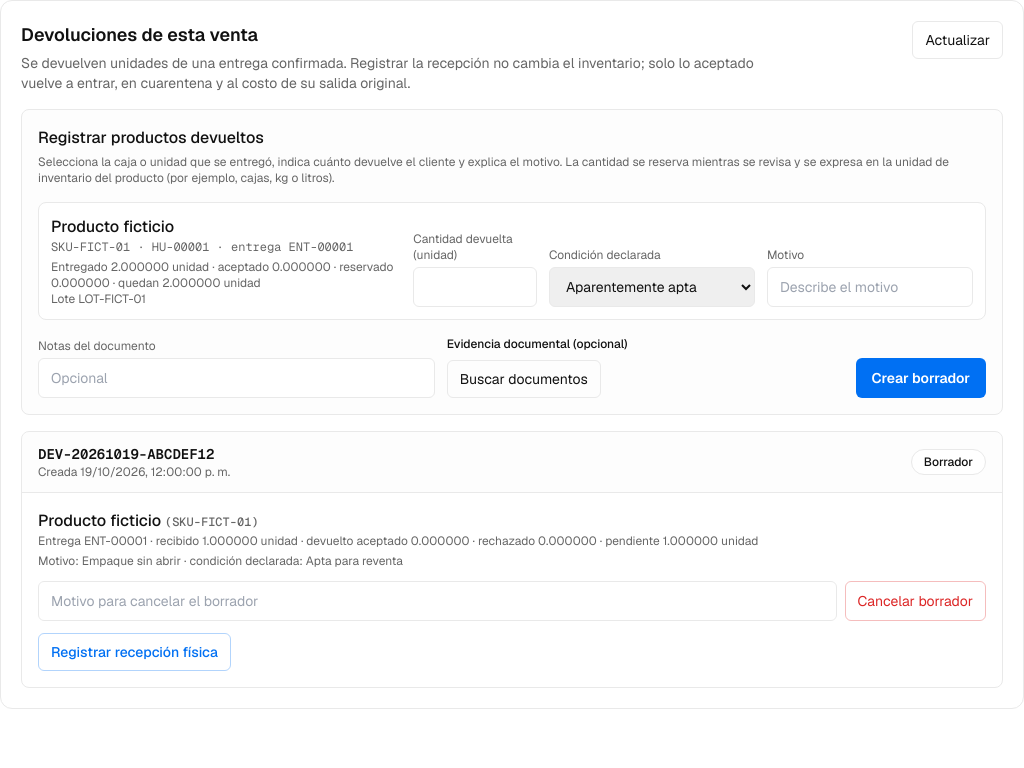
SalesReturnsPanel › exige motivo para cancelar y anuncia la cancelación del borrador
The width and height of the screenshot is (1024, 768).
Step 1. Click the button "Cancelar borrador" → (915, 601), box [844,581,986,621]
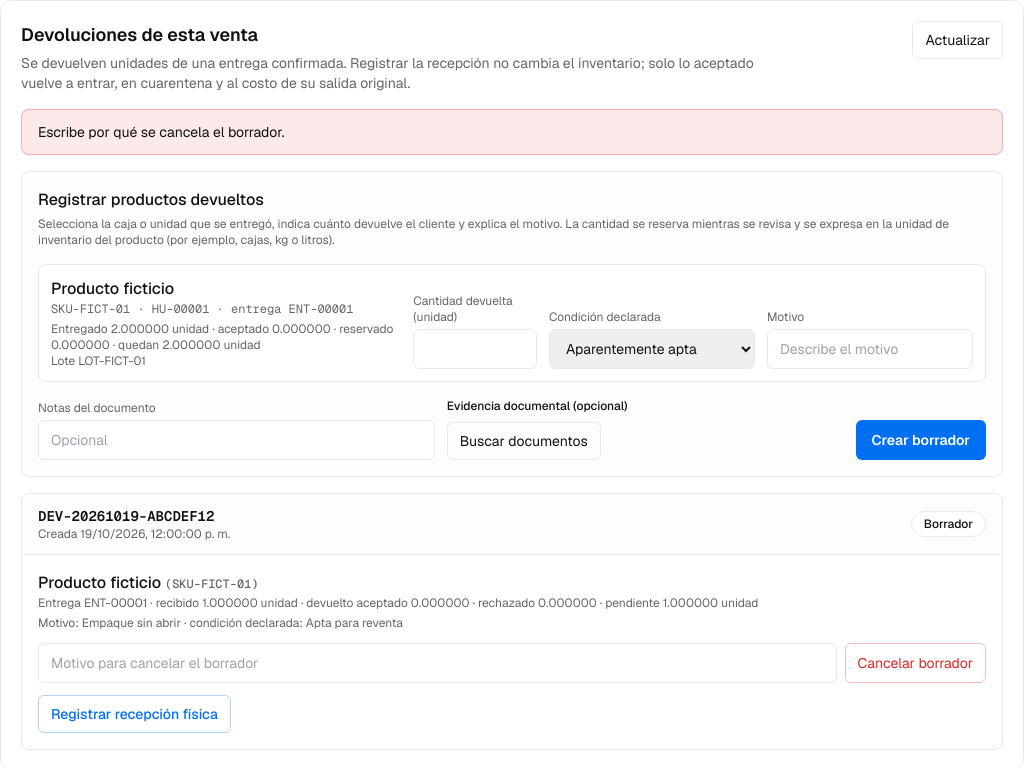
Expected: the message reads "Escribe por qué se cancela el borrador.", [38,123,284,141]
Step 2. Type "Duplicado de prueba" into the field named "Motivo de cancelación de DEV-20261019-ABCDEF12" → (437, 663), box [38,643,836,683]
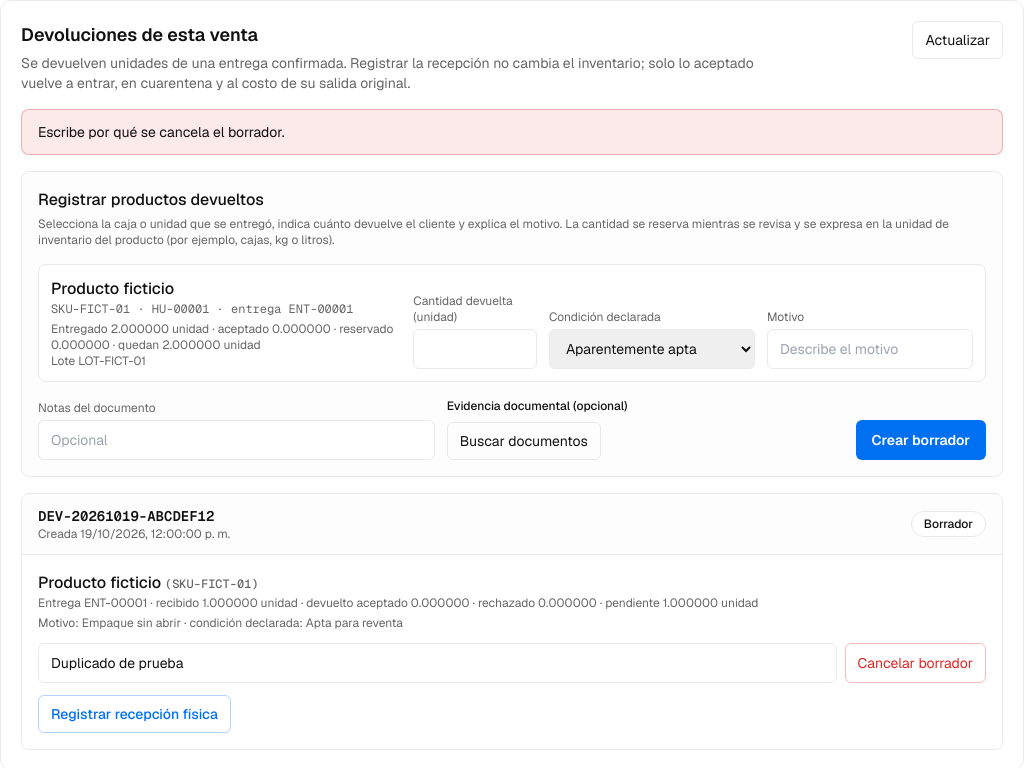
Step 3. Click the button "Cancelar borrador" → (915, 663), box [844,643,986,683]
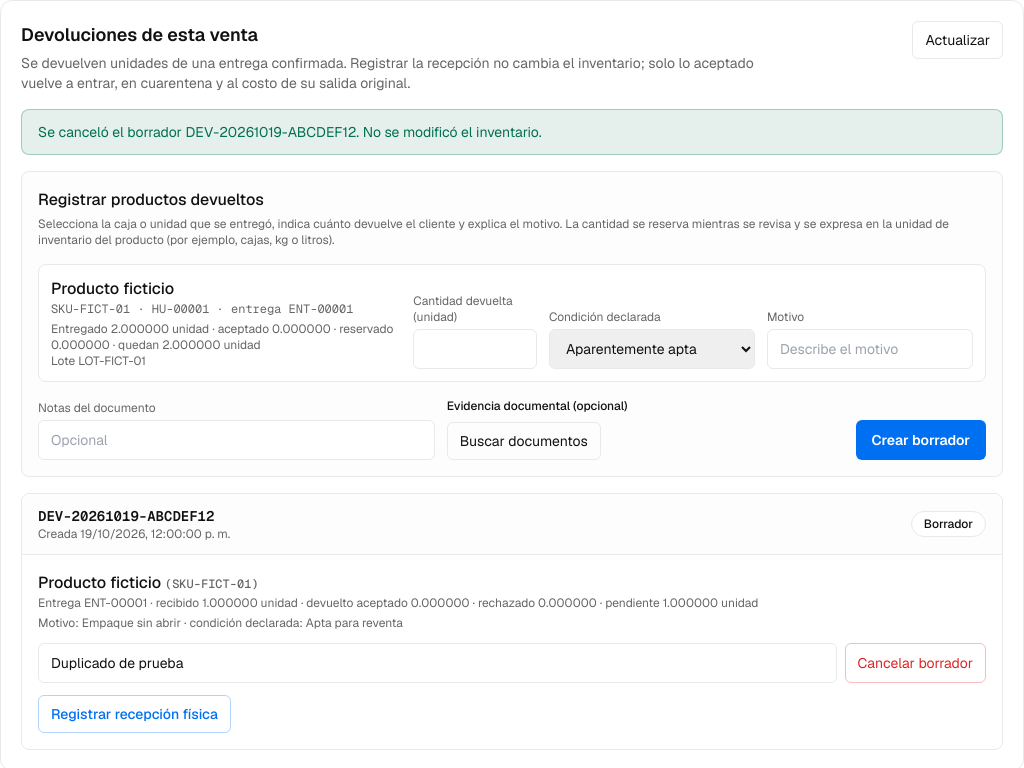
Expected: the message shows "Se canceló el borrador DEV-20261019-ABCDEF12", [38,123,542,141]
